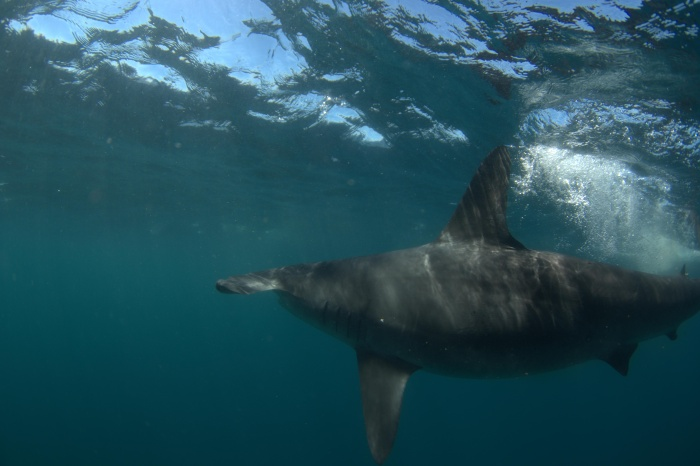Hammer: (181, 130, 700, 465)
